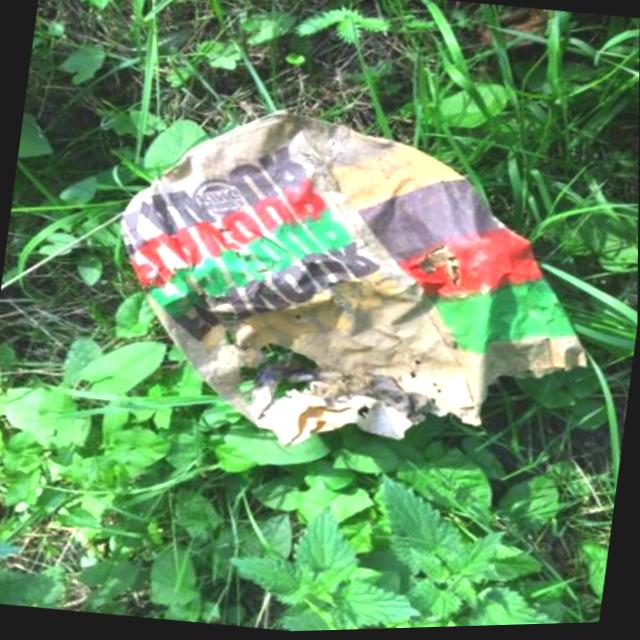Paper: (89, 83, 618, 492)
